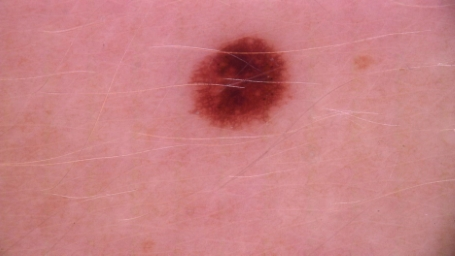nevus: (192, 36, 285, 129)
